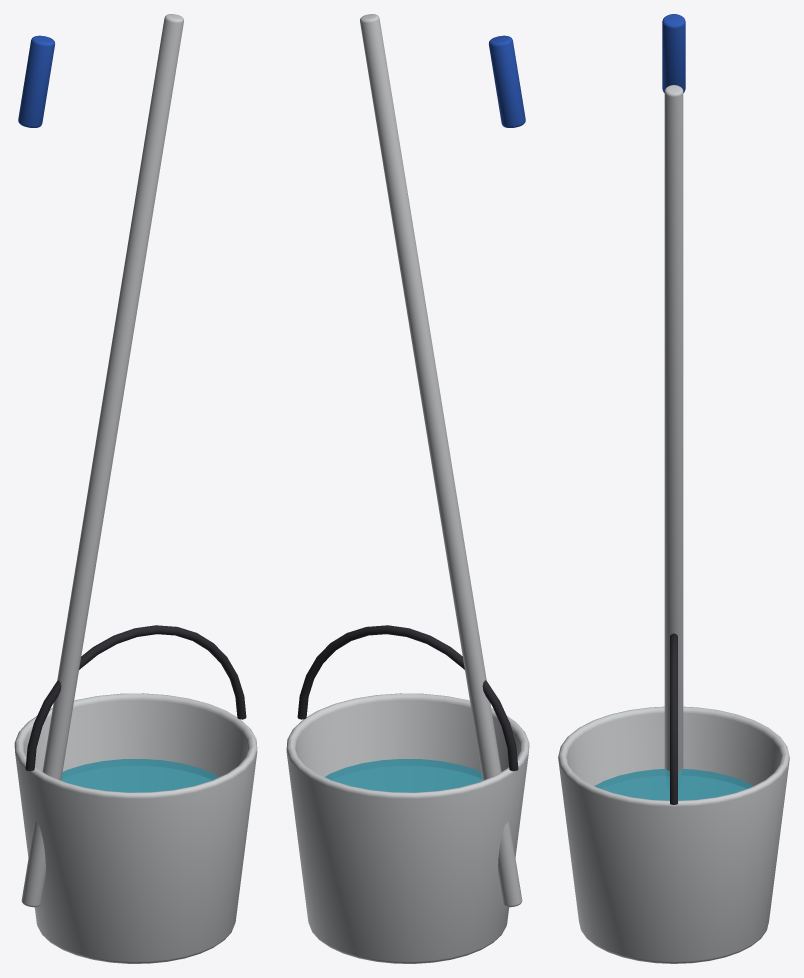
Rendered from mop_bucket.glb.
3 views of the same model, side by side, from view 1: azimuth 30°, elevation 25°; view 2: azimuth 150°, elevation 25°; view 3: azimuth 270°, elevation 25° (orthographic). The views are drawn at different scales.
Visible parts, largest first — view 1: mop_bucket; view 2: mop_bucket; view 3: mop_bucket.
Boxes of the visible parts, x1,y1,x2,y2 form: mop_bucket: [14, 14, 257, 963]; mop_bucket: [286, 14, 529, 963]; mop_bucket: [558, 14, 789, 963].
Size of the model in its own units: 0.3415 by 1.33 by 0.3186.
